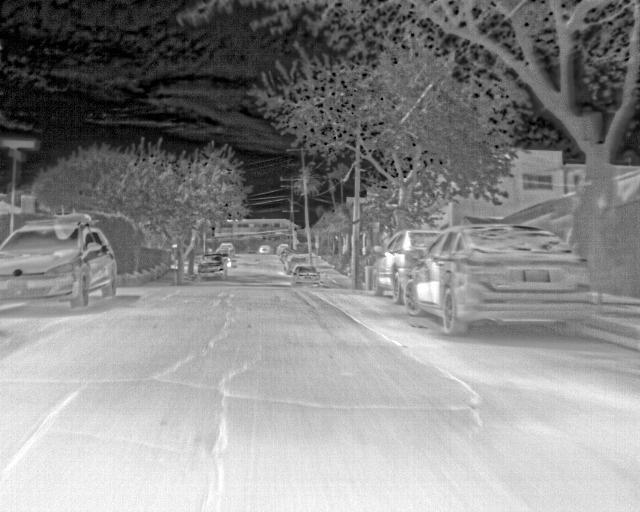car: (403, 221, 591, 339), (0, 221, 116, 308), (373, 229, 439, 304), (196, 253, 227, 281), (290, 266, 320, 287), (283, 253, 311, 272), (213, 251, 232, 269), (275, 241, 292, 256), (220, 241, 237, 255), (258, 243, 272, 254)
